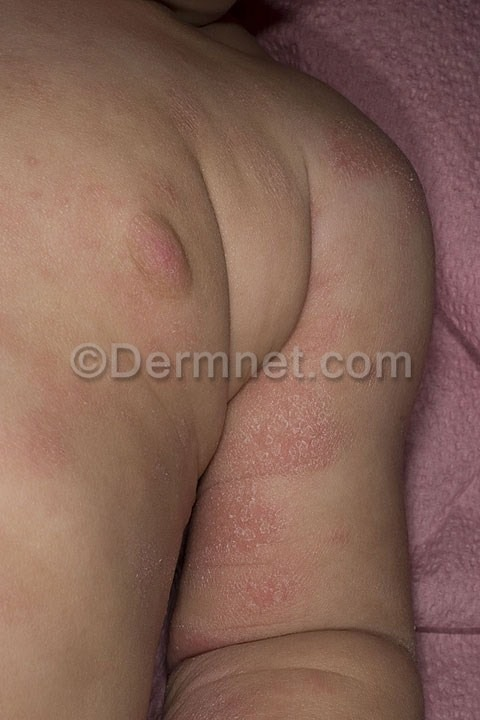Eczema: (1, 18, 293, 217), (179, 360, 375, 627), (37, 383, 166, 680), (179, 633, 354, 718), (304, 98, 420, 218)
